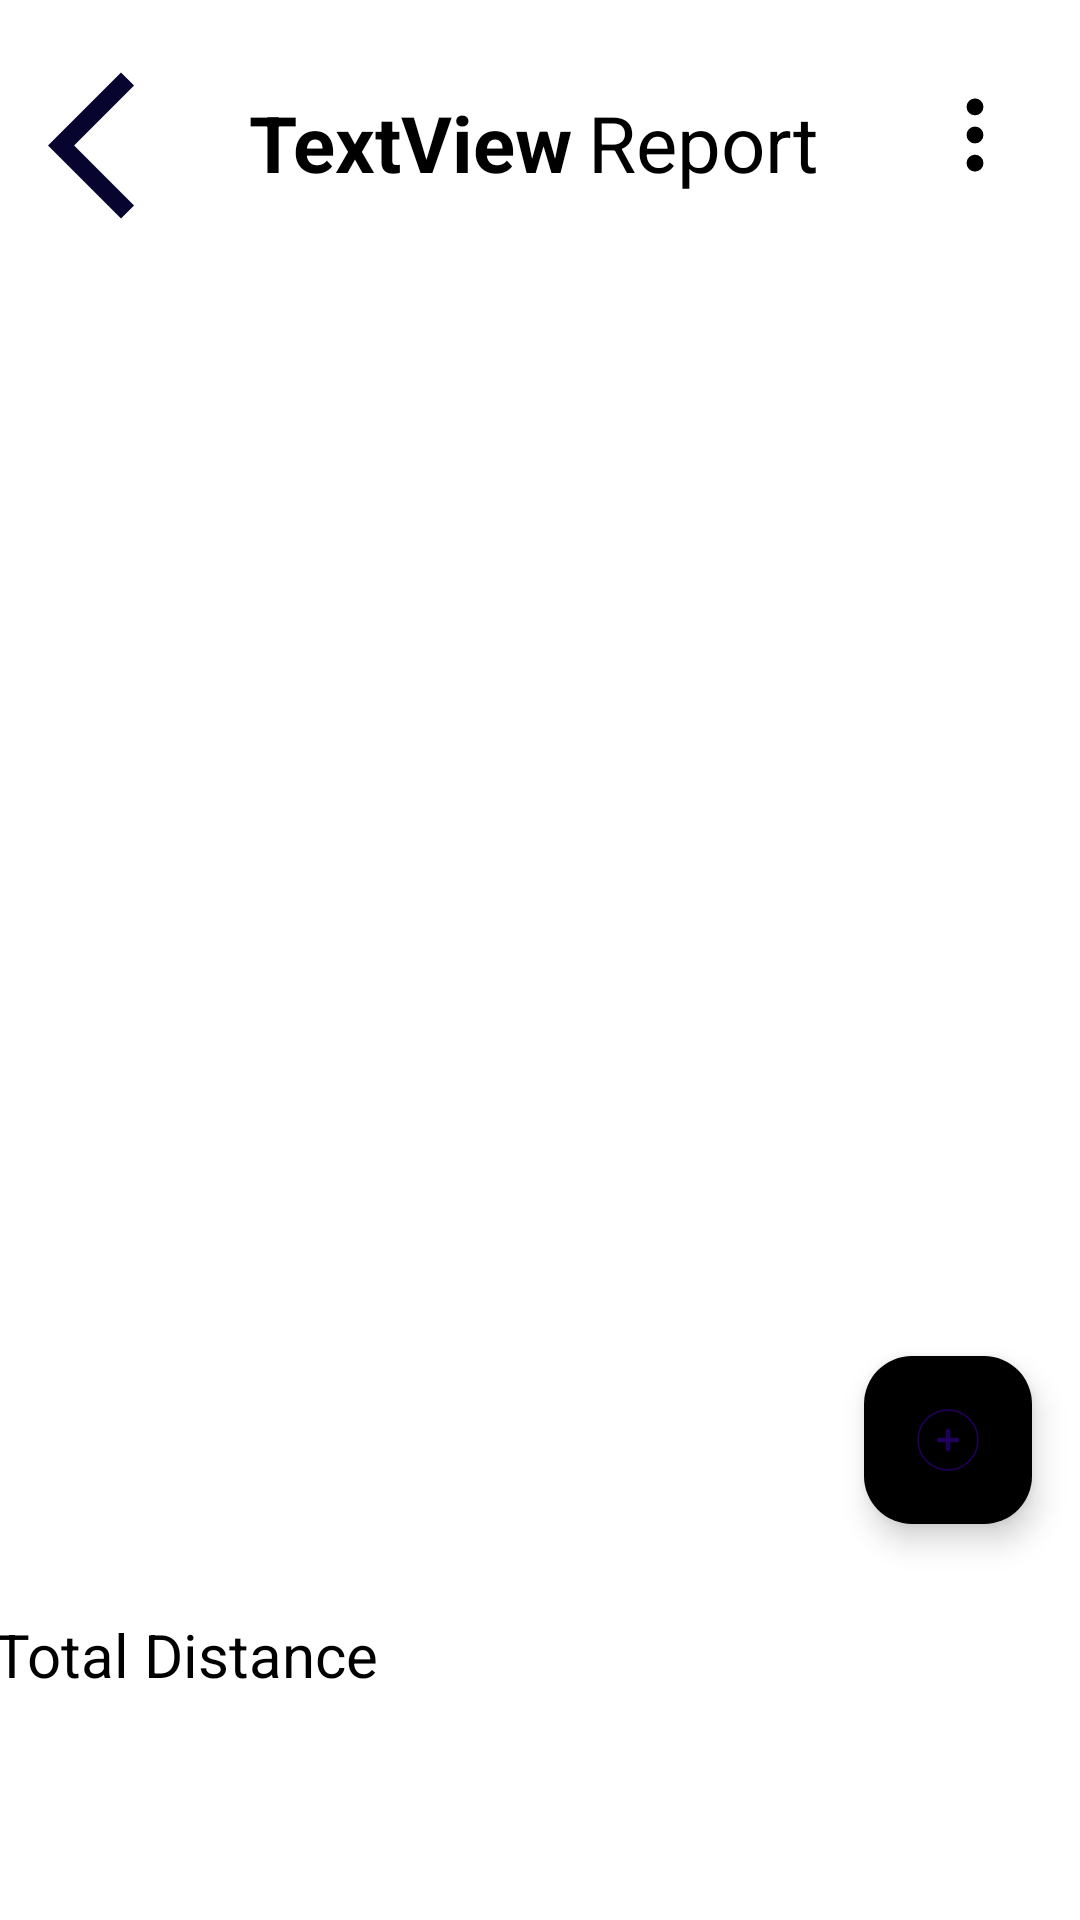

Icons on this 1080px x 1920px Android screen, each with its box as BBox(x1, y1, x2, y2):
addcircle: BBox(864, 1356, 1032, 1524)
arrowback: BBox(48, 72, 134, 219)
three dots: BBox(966, 98, 984, 172)
